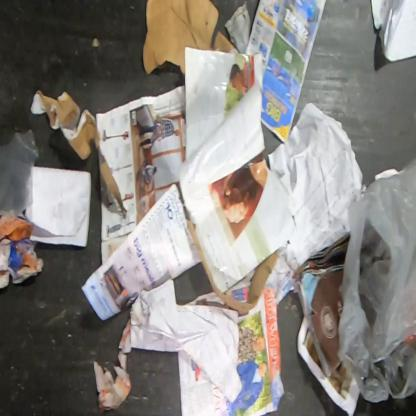cardboard: (30, 87, 129, 214), (186, 217, 280, 316), (142, 0, 240, 76)
soft_plastic: (336, 156, 415, 405), (0, 126, 41, 221)
